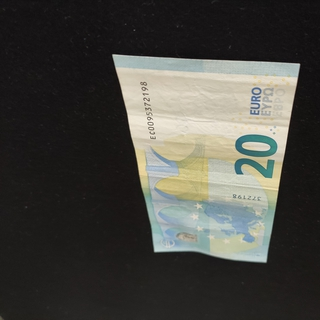20EUROBack: (111, 53, 300, 263)
